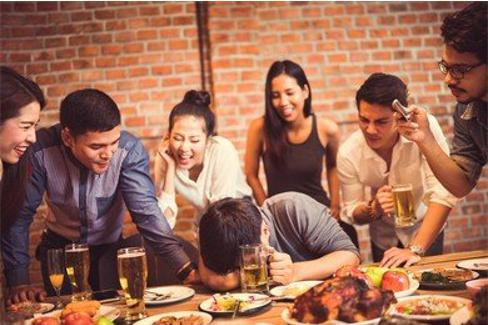Drunk: (440, 44, 484, 103), (3, 102, 42, 163), (167, 114, 207, 168), (81, 127, 120, 172), (270, 74, 303, 122), (360, 98, 392, 146)
